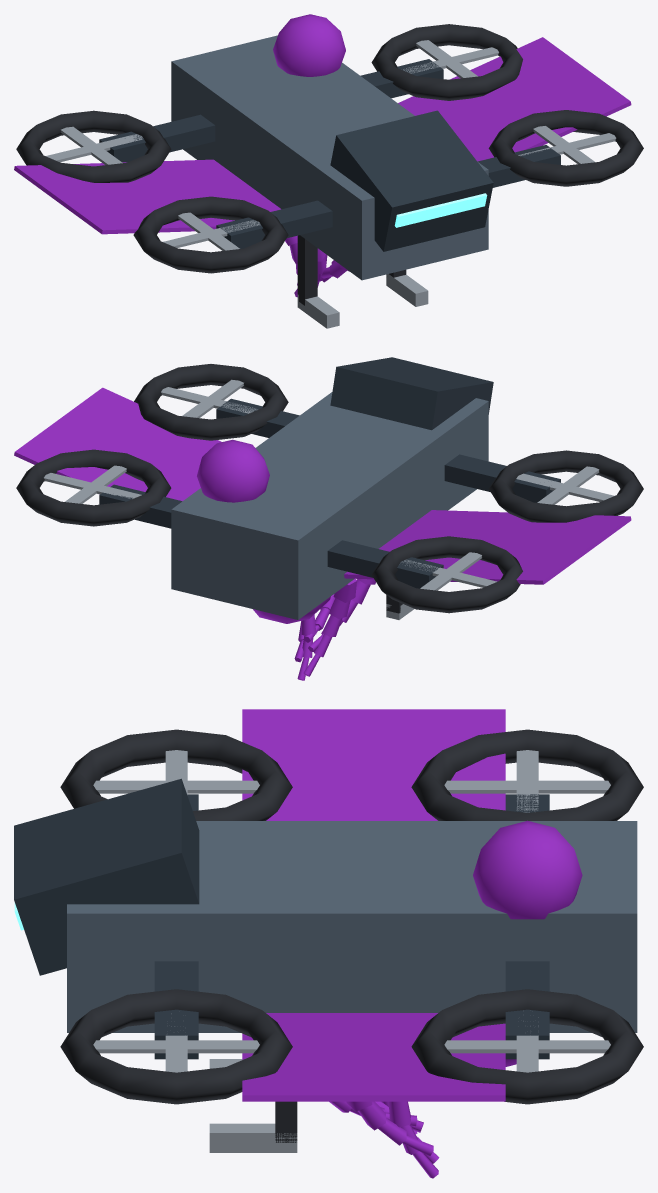
File: boss_skywraith.glb
The picture shows the model from 3 angles, top to bottom: view 1: azimuth 30°, elevation 25°; view 2: azimuth 150°, elevation 25°; view 3: azimuth 270°, elevation 25°; orthographic projection. The views are drawn at different scales.
Visible parts, largest first — view 1: core, wingL, wingR, rotor2, rotor0, rotor3, rotor1, eye; view 2: core, wingL, wingR, rotor0, rotor3, rotor1, rotor2, tentacle3, tentacle2; view 3: core, wingR, wingL, rotor2, rotor3, rotor1, rotor0, tentacle0.
Boxes of the visible parts, x1,y1,x2,y2 form: core: (16, 14, 643, 328); wingL: (398, 37, 631, 161); wingR: (14, 159, 280, 234); rotor2: (45, 126, 143, 164); rotor0: (163, 212, 260, 250); rotor3: (403, 40, 498, 78); rotor1: (518, 126, 616, 164); eye: (394, 193, 487, 227); core: (16, 357, 643, 623); wingL: (14, 387, 221, 501); wingR: (344, 510, 631, 584); rotor0: (516, 466, 614, 504); rotor3: (44, 465, 141, 503); rotor1: (161, 379, 257, 418); rotor2: (401, 552, 496, 590); tentacle3: (322, 578, 356, 637); tentacle2: (342, 579, 375, 622); core: (14, 729, 643, 1152); wingR: (242, 709, 505, 820); wingL: (242, 1013, 505, 1101); rotor2: (444, 750, 610, 812); rotor3: (444, 1017, 610, 1072); rotor1: (93, 1013, 259, 1072); rotor0: (93, 750, 259, 794); tentacle0: (346, 1101, 385, 1130).
Size of the model in its own units: 4.17 by 1.91 by 2.87.
